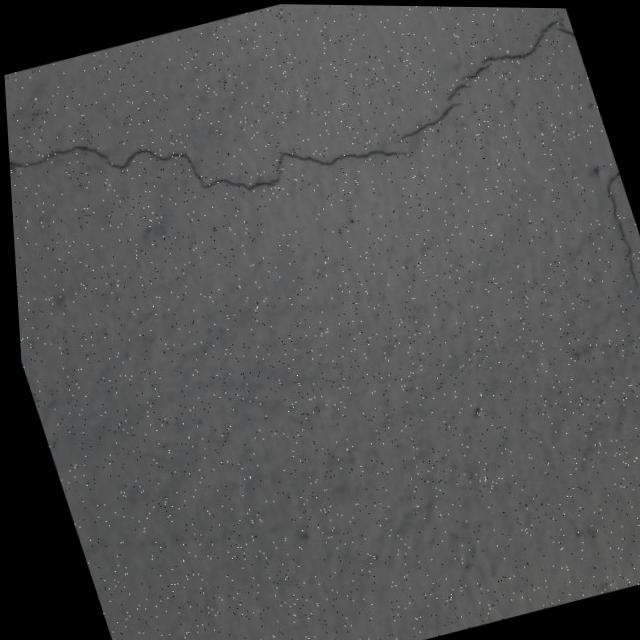Crack: (0, 0, 607, 278), (585, 164, 640, 333)
